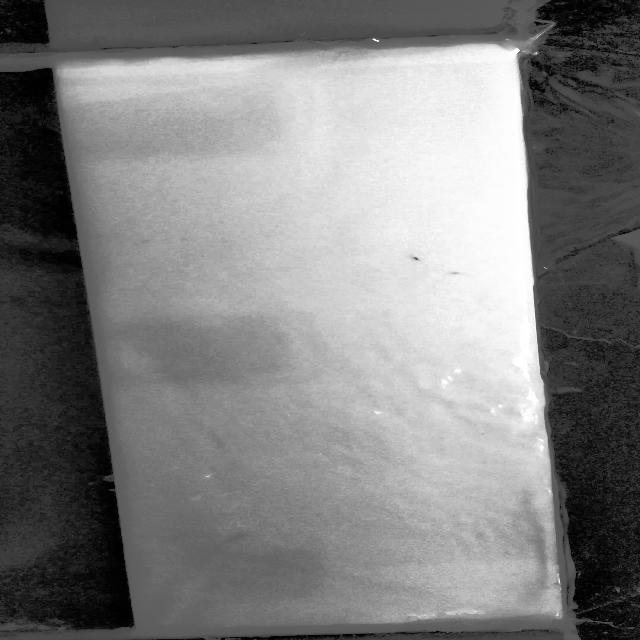shrimp: (426, 267, 478, 282), (403, 252, 434, 265)
